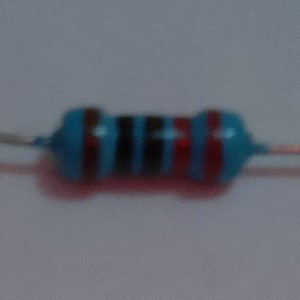black_band: (109, 113, 137, 178), (138, 114, 166, 178)
brown_band: (80, 105, 102, 181)
red_band: (197, 108, 225, 187), (167, 115, 195, 178)
